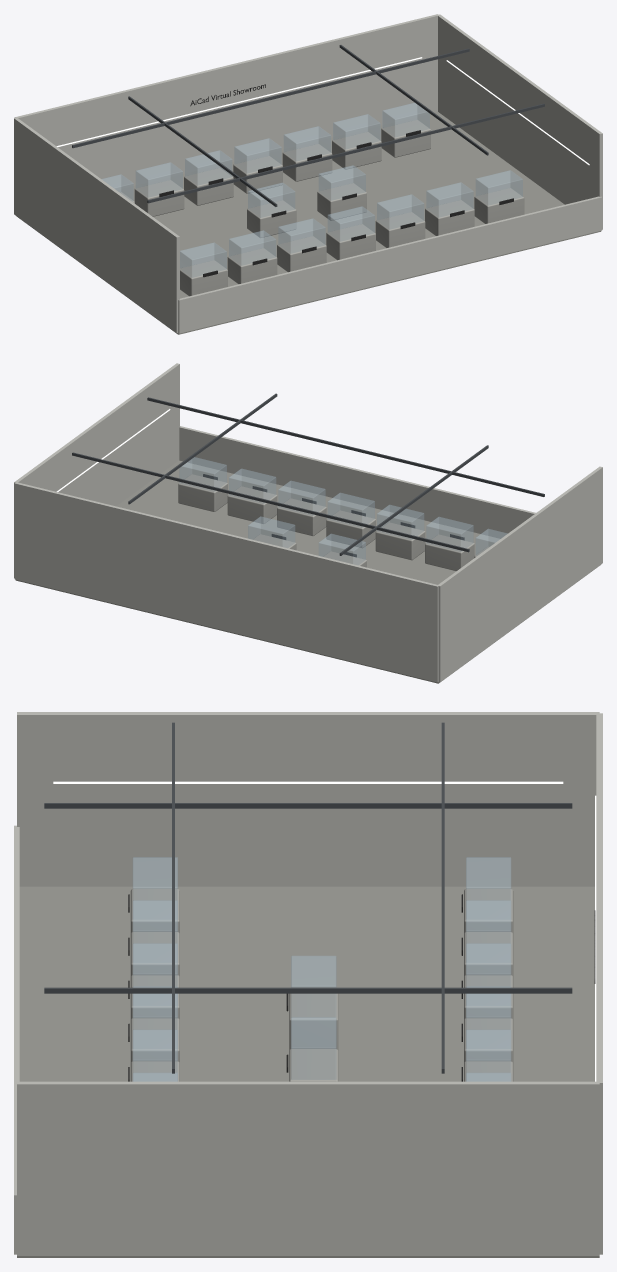
The model's file is empty_showroom.glb.
3 views of the same model, one above another, from view 1: azimuth 30°, elevation 25°; view 2: azimuth 150°, elevation 25°; view 3: azimuth 270°, elevation 25° (orthographic). The views are drawn at different scales.
Parts seen in each view (by area): view 1: back_wall, floor_slab, left_wall, right_wall, front_threshold, ceiling_grid_a, ceiling_grid_b, CENTER_02_plinth, CENTER_01_plinth, B07_plinth, B02_plinth, B05_plinth (+29 smaller); view 2: back_wall, left_wall, front_threshold, right_wall, floor_slab, ceiling_grid_b, ceiling_grid_a, B03_plinth, B06_plinth, B07_plinth, B05_plinth, B02_plinth (+12 smaller); view 3: right_wall, left_wall, floor_slab, ceiling_grid_d, back_wall, ceiling_grid_c, CENTER_02_glass_case, CENTER_01_plinth, CENTER_01_glass_case, A04_plinth, A01_plinth, A02_plinth (+22 smaller).
Boxes of the visible parts, bbox=[...] form: back_wall: bbox=[14, 14, 438, 189]; floor_slab: bbox=[16, 112, 601, 334]; left_wall: bbox=[14, 117, 179, 333]; right_wall: bbox=[438, 14, 602, 229]; front_threshold: bbox=[178, 196, 602, 333]; ceiling_grid_a: bbox=[147, 103, 544, 203]; ceiling_grid_b: bbox=[72, 48, 469, 148]; CENTER_02_plinth: bbox=[317, 183, 366, 220]; CENTER_01_plinth: bbox=[247, 200, 296, 237]; B07_plinth: bbox=[474, 188, 524, 223]; B02_plinth: bbox=[227, 248, 277, 284]; B05_plinth: bbox=[375, 212, 425, 248]; back_wall: bbox=[14, 482, 438, 682]; left_wall: bbox=[438, 466, 602, 681]; front_threshold: bbox=[179, 426, 535, 538]; right_wall: bbox=[14, 363, 179, 578]; floor_slab: bbox=[15, 460, 600, 683]; ceiling_grid_b: bbox=[72, 452, 469, 552]; ceiling_grid_a: bbox=[147, 397, 544, 496]; B03_plinth: bbox=[375, 522, 425, 560]; B06_plinth: bbox=[227, 486, 277, 523]; B07_plinth: bbox=[178, 474, 227, 511]; B05_plinth: bbox=[277, 498, 326, 536]; B02_plinth: bbox=[425, 534, 474, 571]; right_wall: bbox=[17, 1081, 599, 1255]; left_wall: bbox=[17, 712, 599, 886]; floor_slab: bbox=[17, 886, 599, 1257]; ceiling_grid_d: bbox=[44, 987, 572, 993]; back_wall: bbox=[596, 713, 602, 1254]; ceiling_grid_c: bbox=[44, 803, 572, 808]; CENTER_02_glass_case: bbox=[291, 1017, 336, 1079]; CENTER_01_plinth: bbox=[289, 987, 338, 1050]; CENTER_01_glass_case: bbox=[291, 955, 336, 1017]; A04_plinth: bbox=[464, 1018, 513, 1062]; A01_plinth: bbox=[464, 889, 513, 933]; A02_plinth: bbox=[464, 932, 513, 976].
Bounding box in the file's own units: 24.18 × 5.37 × 16.17.
